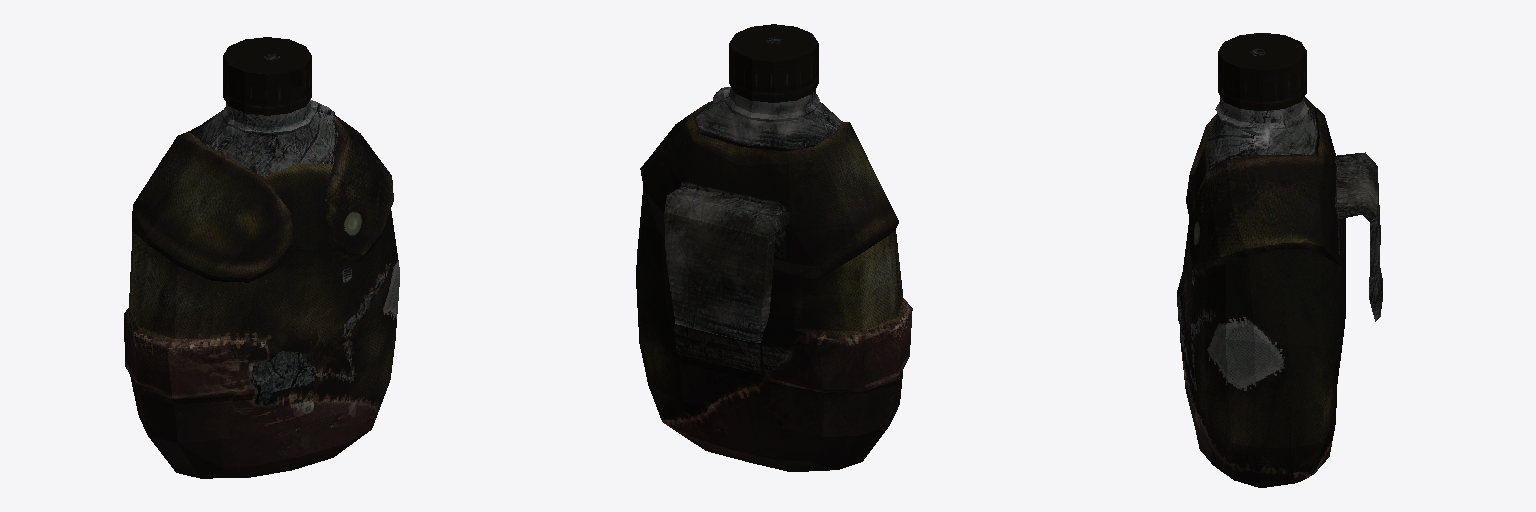
3 renders of one model, left to right at view 1: azimuth 30°, elevation 25°; view 2: azimuth 150°, elevation 25°; view 3: azimuth 270°, elevation 25°, orthographic.
Parts seen in each view (by area): view 1: WaterBottle; view 2: WaterBottle; view 3: WaterBottle.
Part boxes in pixels (bbox=[...]): WaterBottle: bbox=[124, 37, 399, 478]; WaterBottle: bbox=[636, 24, 912, 471]; WaterBottle: bbox=[1177, 33, 1382, 487].
Size of the model in its own units: 0.2558 by 0.3962 by 0.1798.
Materials: 1 (1 with a texture image).